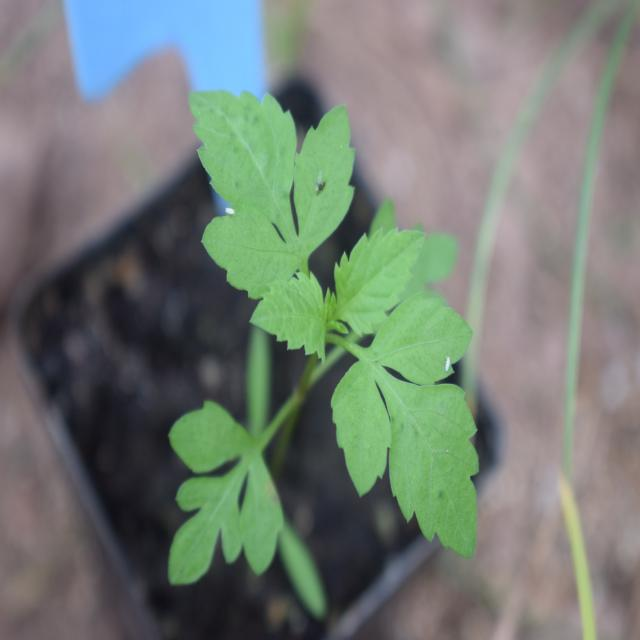Bidens pilosa: (169, 54, 503, 580)
